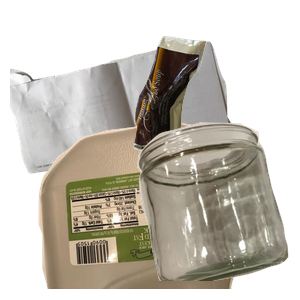glass: (135, 120, 300, 300)
paper: (10, 39, 236, 205)
plastic: (36, 120, 265, 300)
trash: (131, 34, 300, 177)
